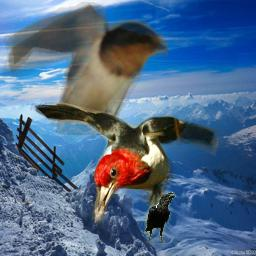Crow: (144, 191, 176, 244)
Swallow: (3, 2, 168, 135)
Woodpecker: (23, 92, 219, 227)
